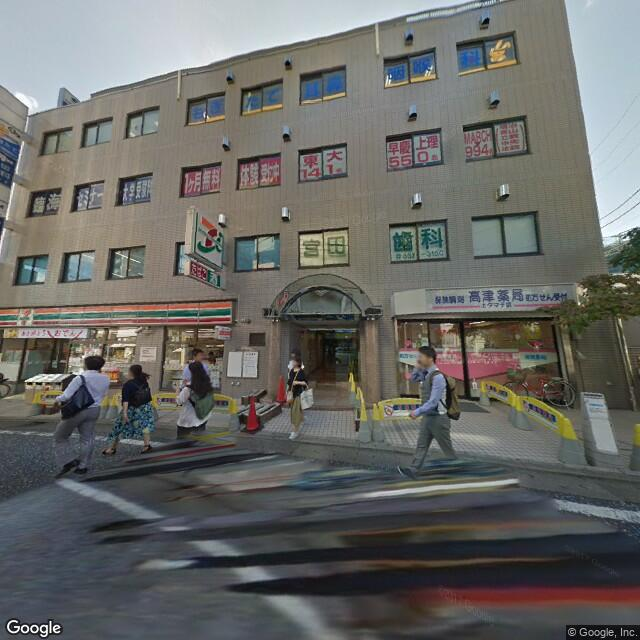7-eleven: (1, 298, 235, 329)
